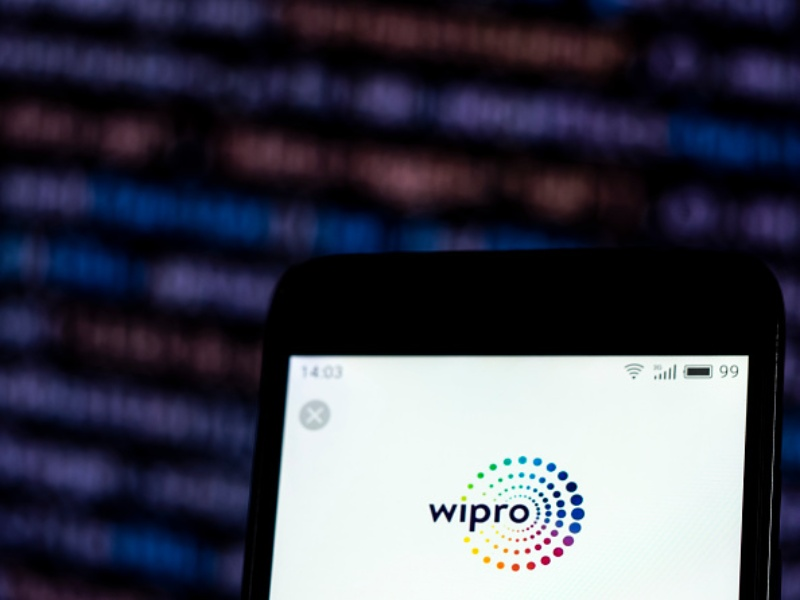wipro: (420, 453, 599, 572)
